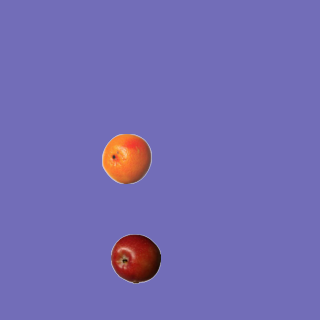Apple Braeburn: (110, 233, 160, 283)
Grapefruit Pink: (101, 133, 151, 183)
